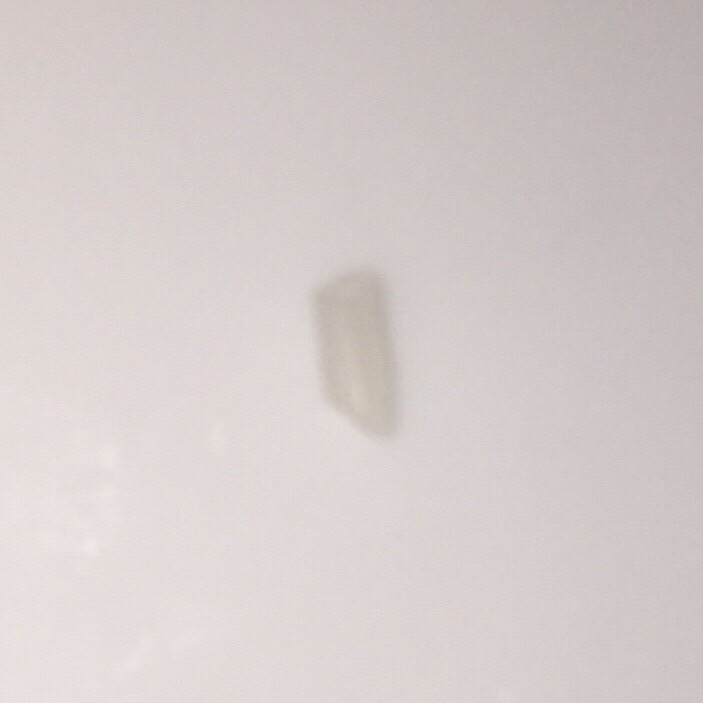Gao Tam: (297, 275, 411, 444)
